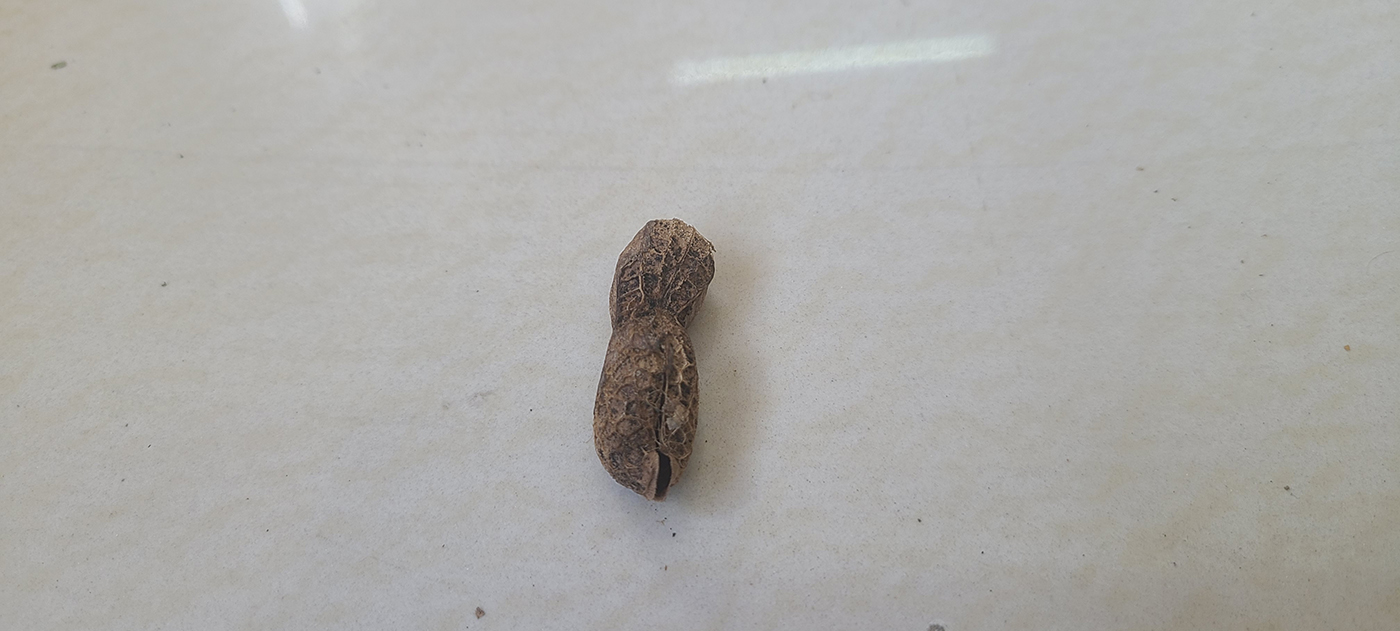l: (591, 212, 716, 502)
